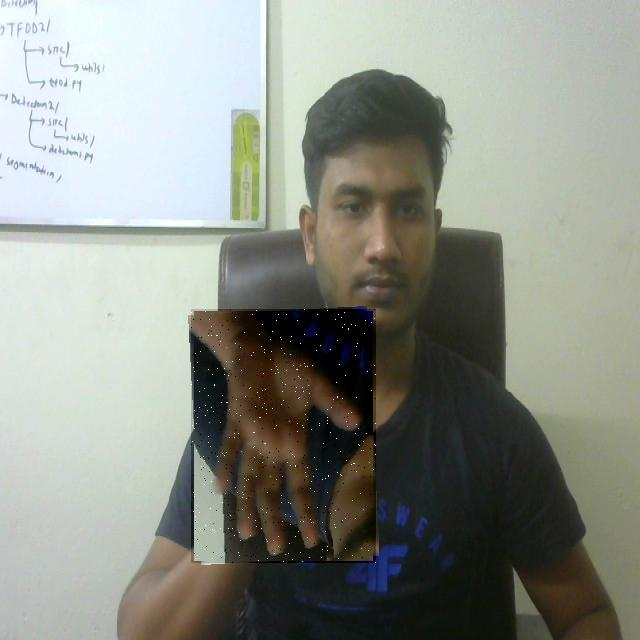Hello: (191, 309, 376, 563)
